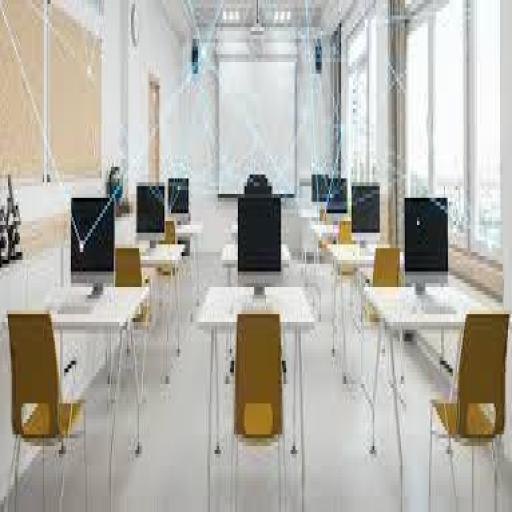chair: (2, 295, 90, 512), (430, 306, 510, 512), (230, 295, 293, 512), (363, 238, 410, 464), (112, 223, 156, 413)
